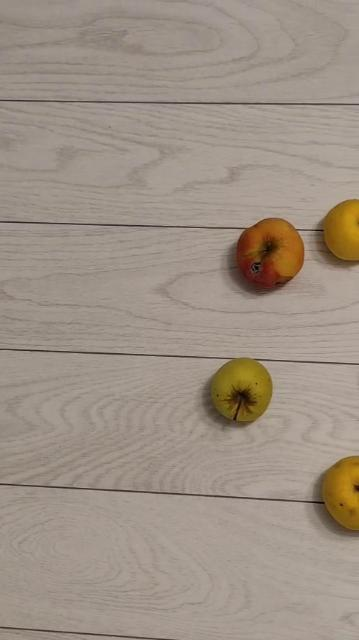apple_green: (209, 357, 273, 425), (321, 454, 359, 530), (322, 197, 359, 261)
apple_red: (234, 217, 305, 289)
